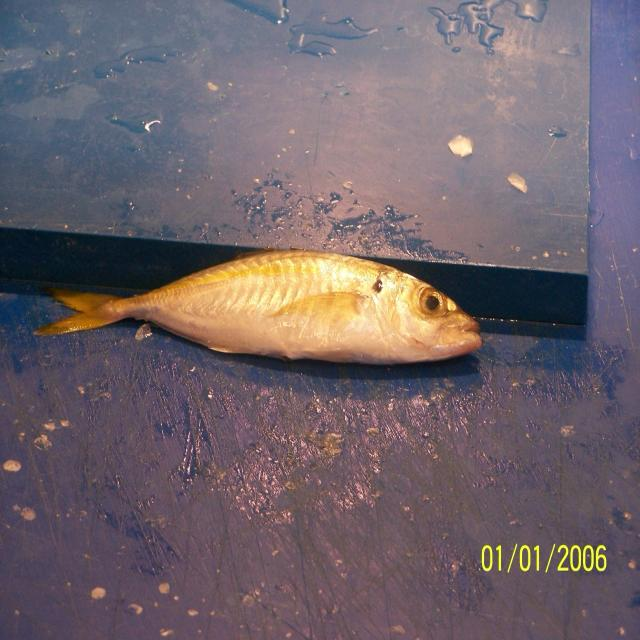Hourse-Mackerel-istavrit-: (34, 250, 483, 368)
